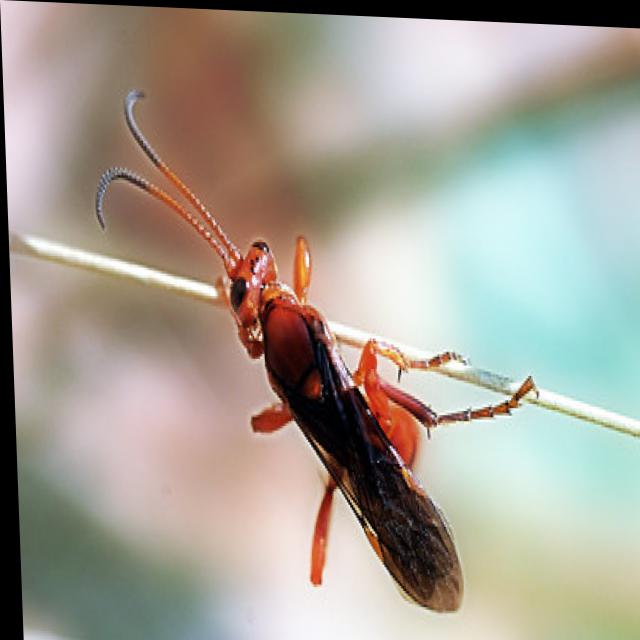Guepe: (72, 59, 544, 633)
